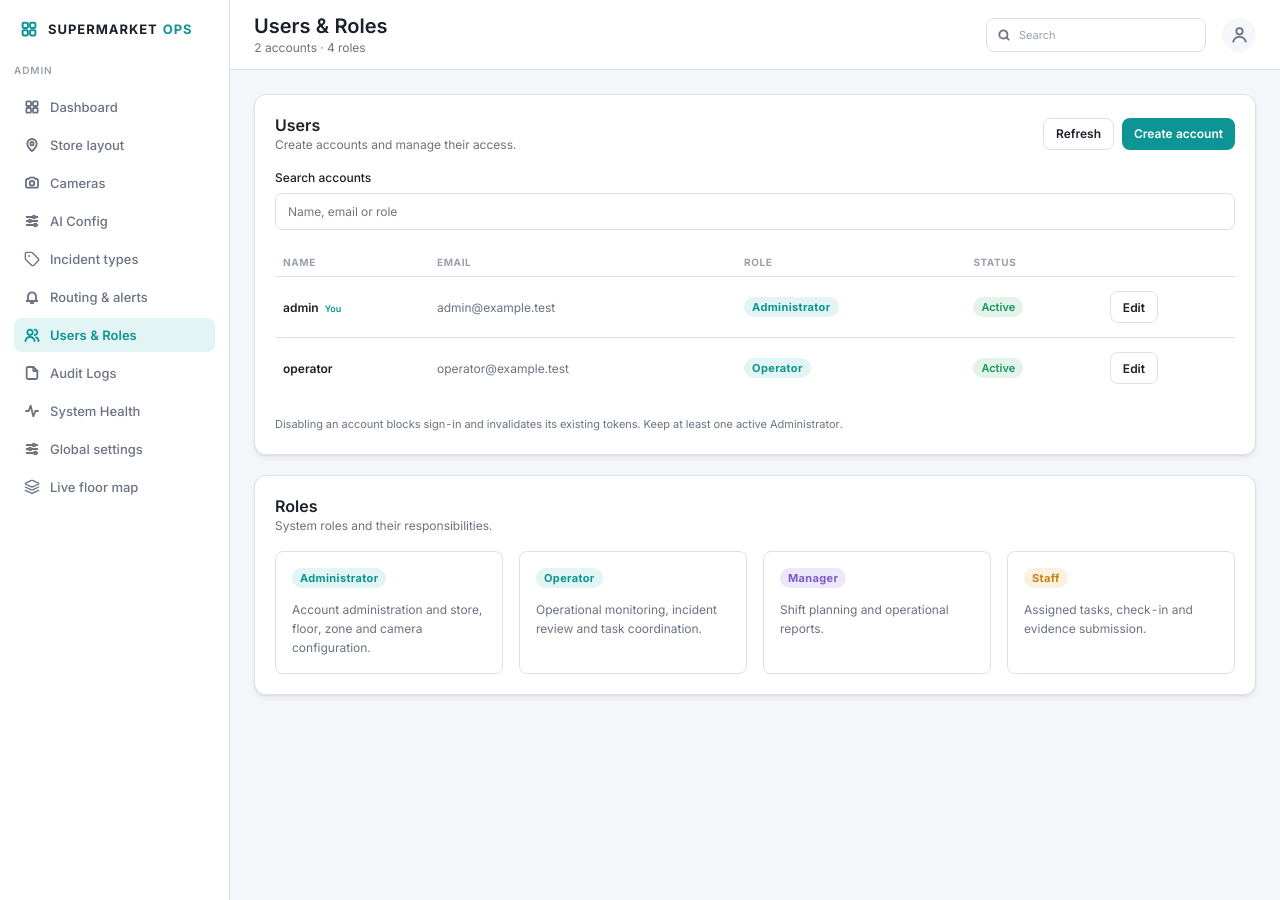
Test: Users & Roles account integration › protects the last active Admin in the UI and handles a backend race rejection
The image size is (1280, 900).
Expected: the button with aria-label "Edit operator@example.test" is shown, left=1110, top=352, right=1158, bottom=384
Click the button with aria-label "Edit admin@example.test": (1134, 307) left=1110, top=291, right=1158, bottom=323
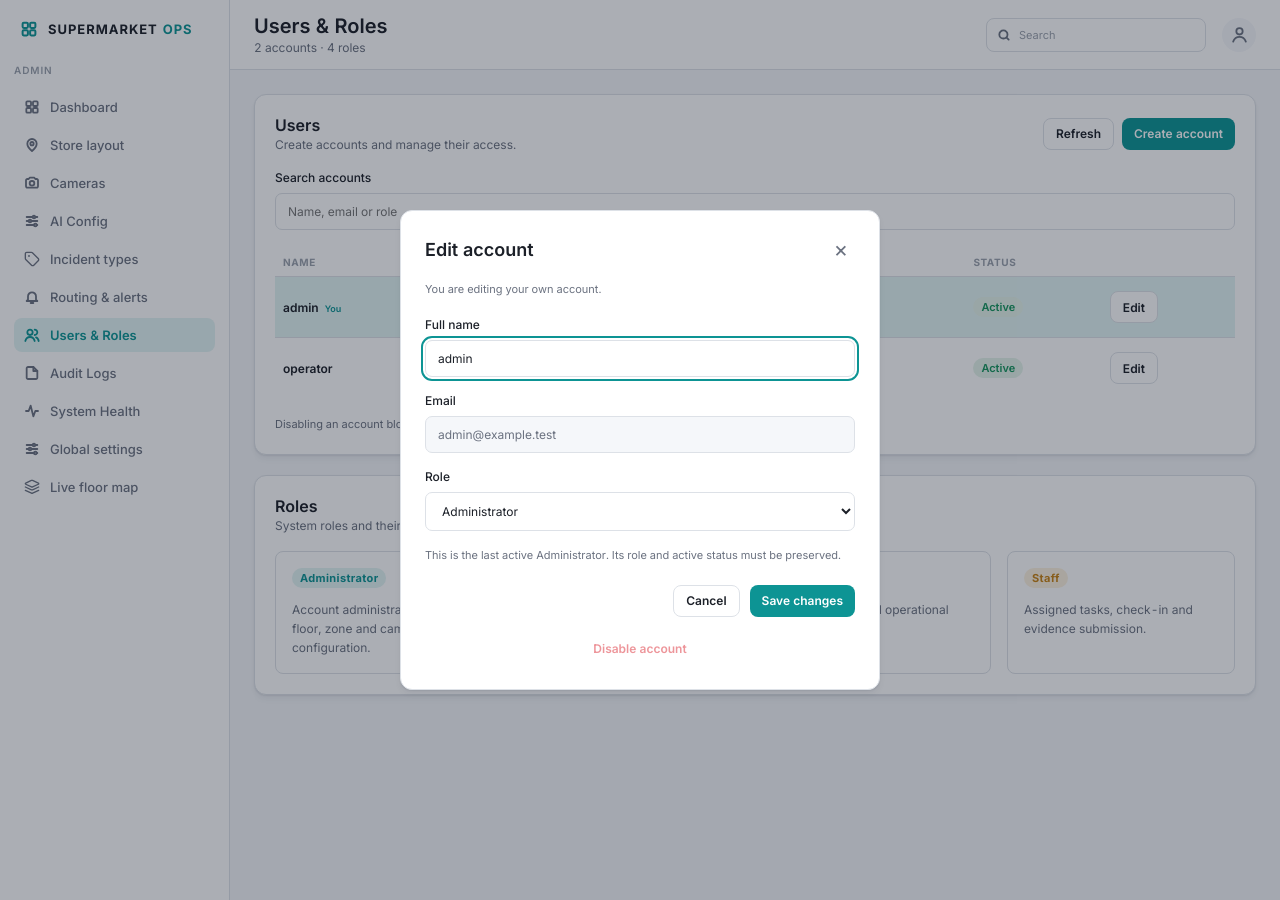
Now the button "Disable account" is disabled, box left=425, top=633, right=855, bottom=665
Click the button "Cancel": (706, 601) left=673, top=585, right=740, bottom=617
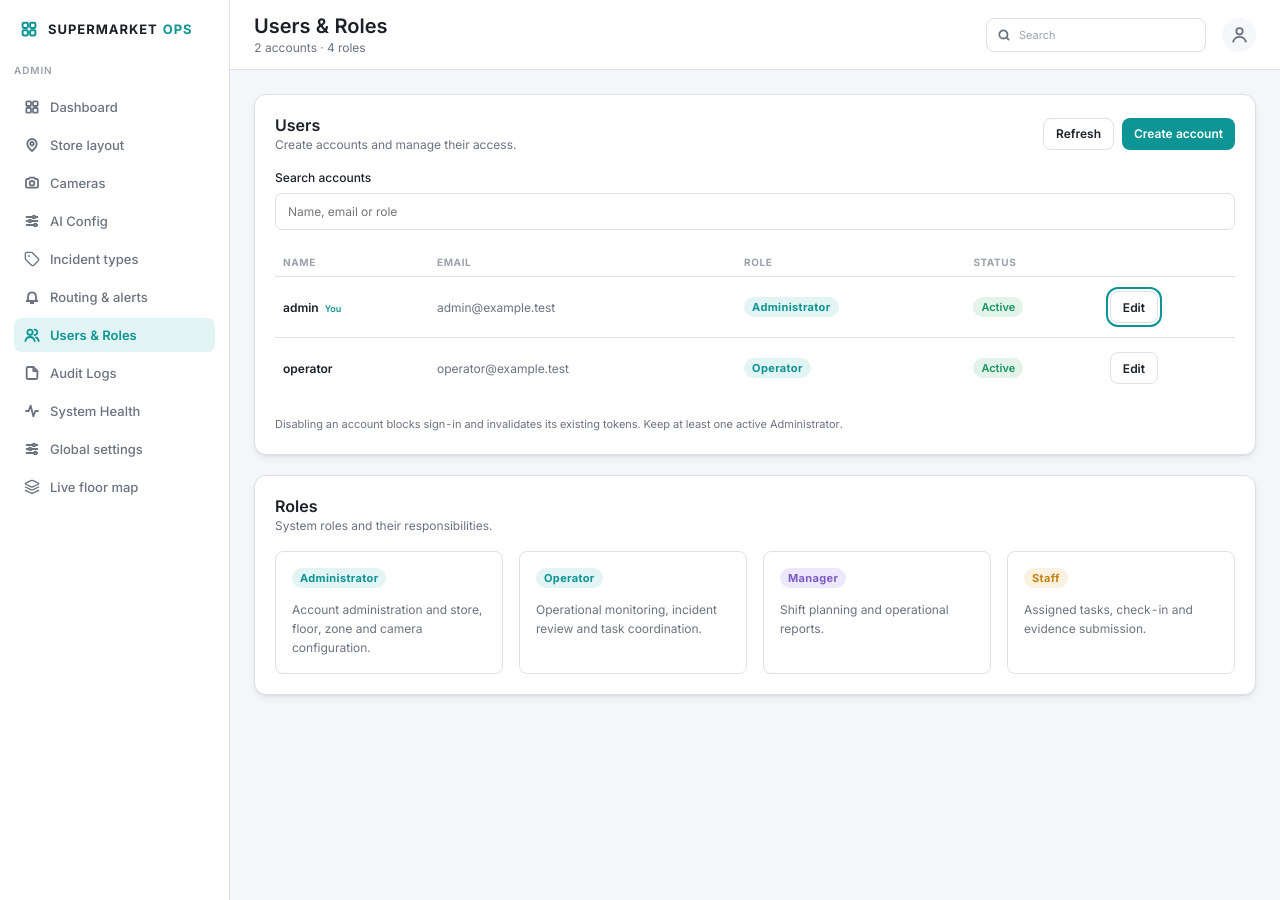
Click the button "Refresh": (1078, 134) left=1043, top=118, right=1114, bottom=150
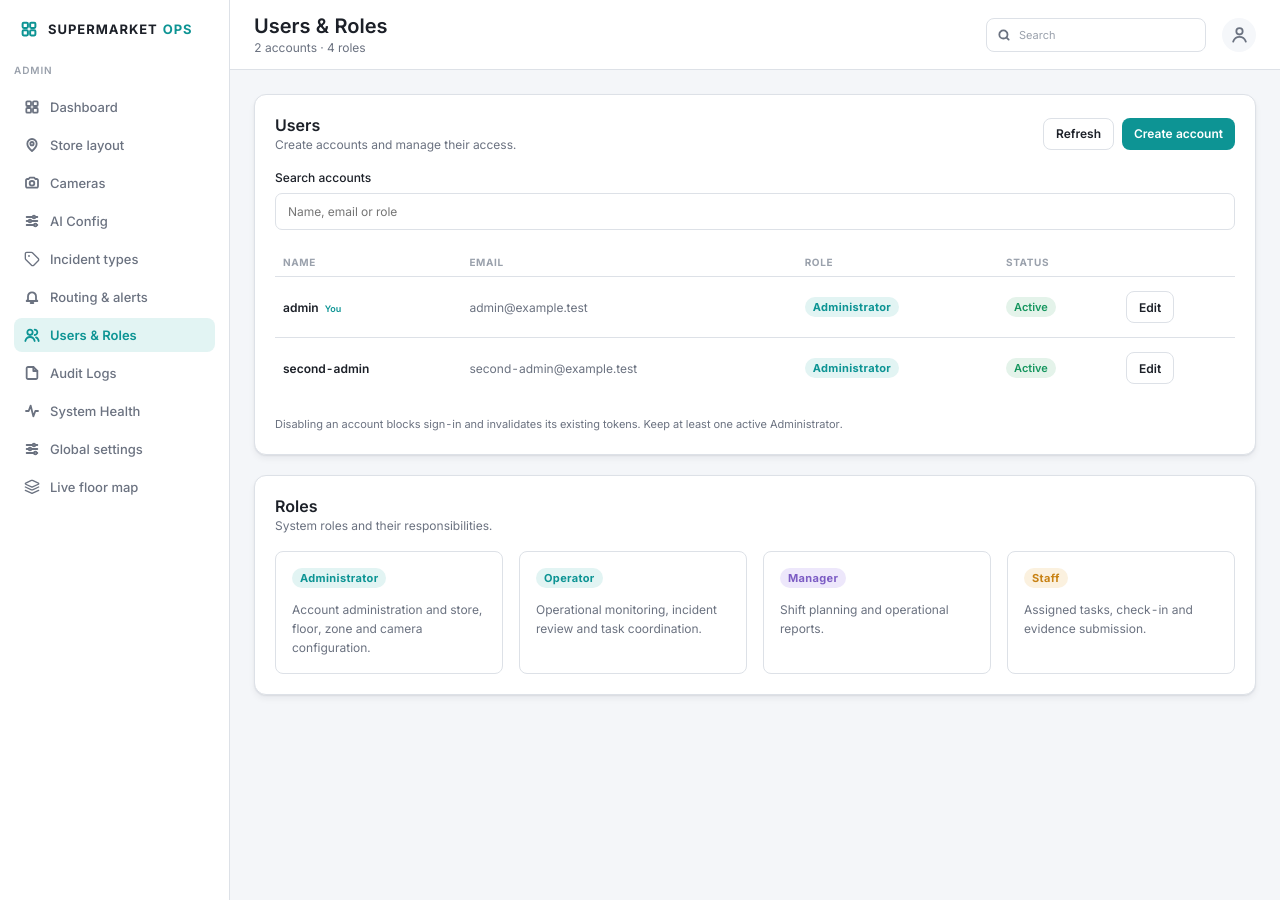
Now the button with aria-label "Edit second-admin@example.test" is shown, box left=1126, top=352, right=1174, bottom=384
Click the button with aria-label "Edit admin@example.test": (1150, 307) left=1126, top=291, right=1174, bottom=323
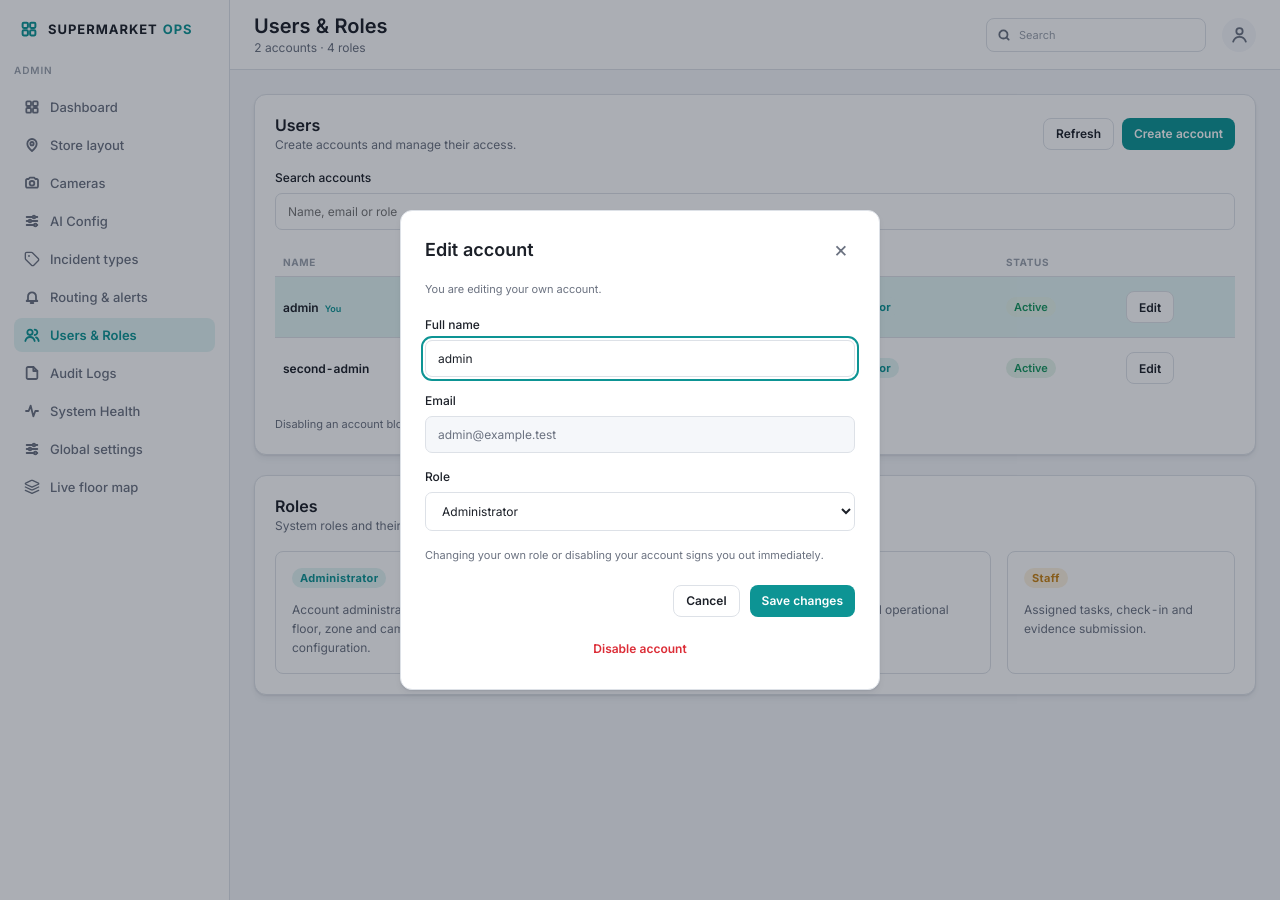
Click the button "Disable account": (640, 649) left=425, top=633, right=855, bottom=665
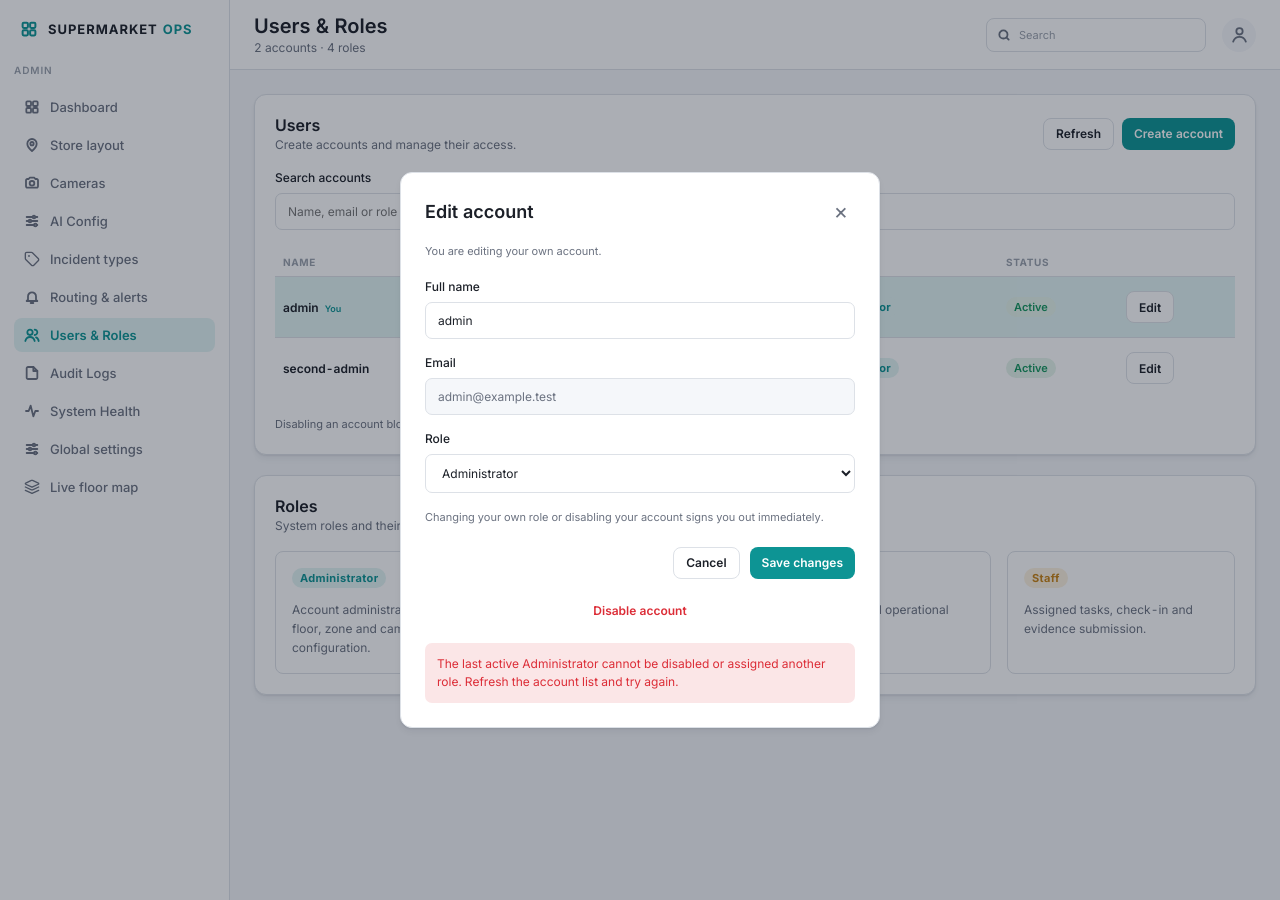
Now the message shows "last active Administrator cannot be disabled", box left=437, top=656, right=825, bottom=689
